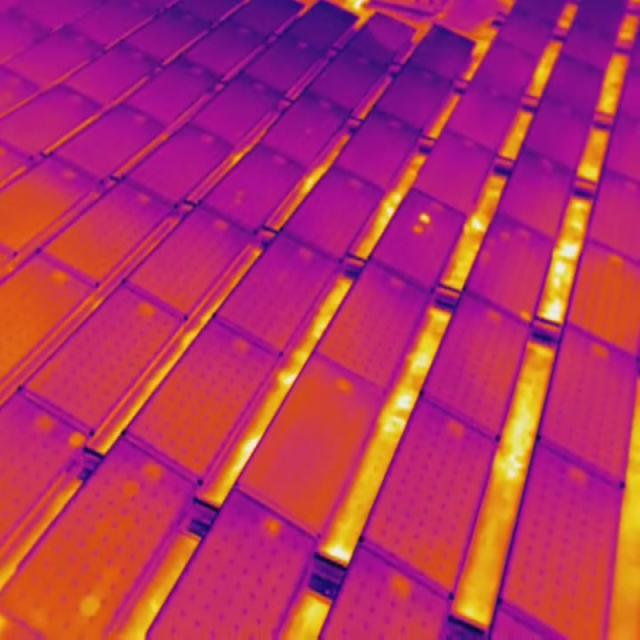Orange-Spots: (68, 428, 88, 456), (418, 210, 431, 225), (521, 310, 532, 324), (413, 223, 423, 234)
